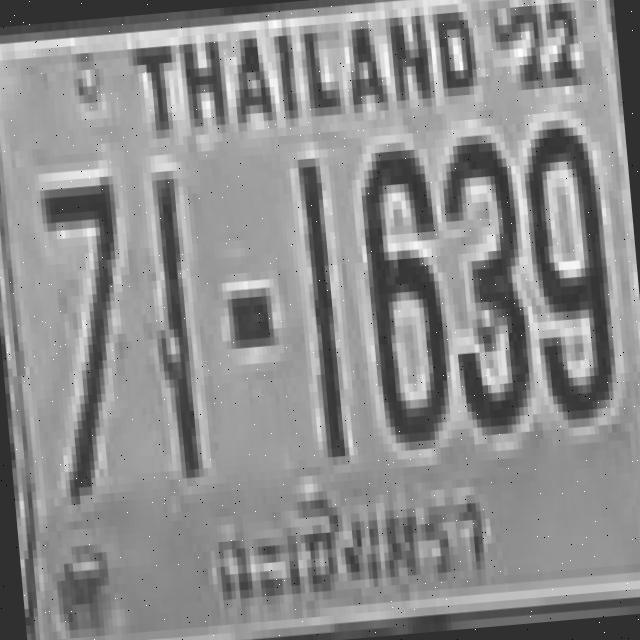1: (144, 166, 201, 475), (295, 154, 342, 454)
3: (436, 124, 531, 428)
6: (355, 140, 450, 443)
7: (36, 172, 137, 492)
9: (520, 117, 614, 413)
Chachoengsao: (204, 477, 498, 622)
